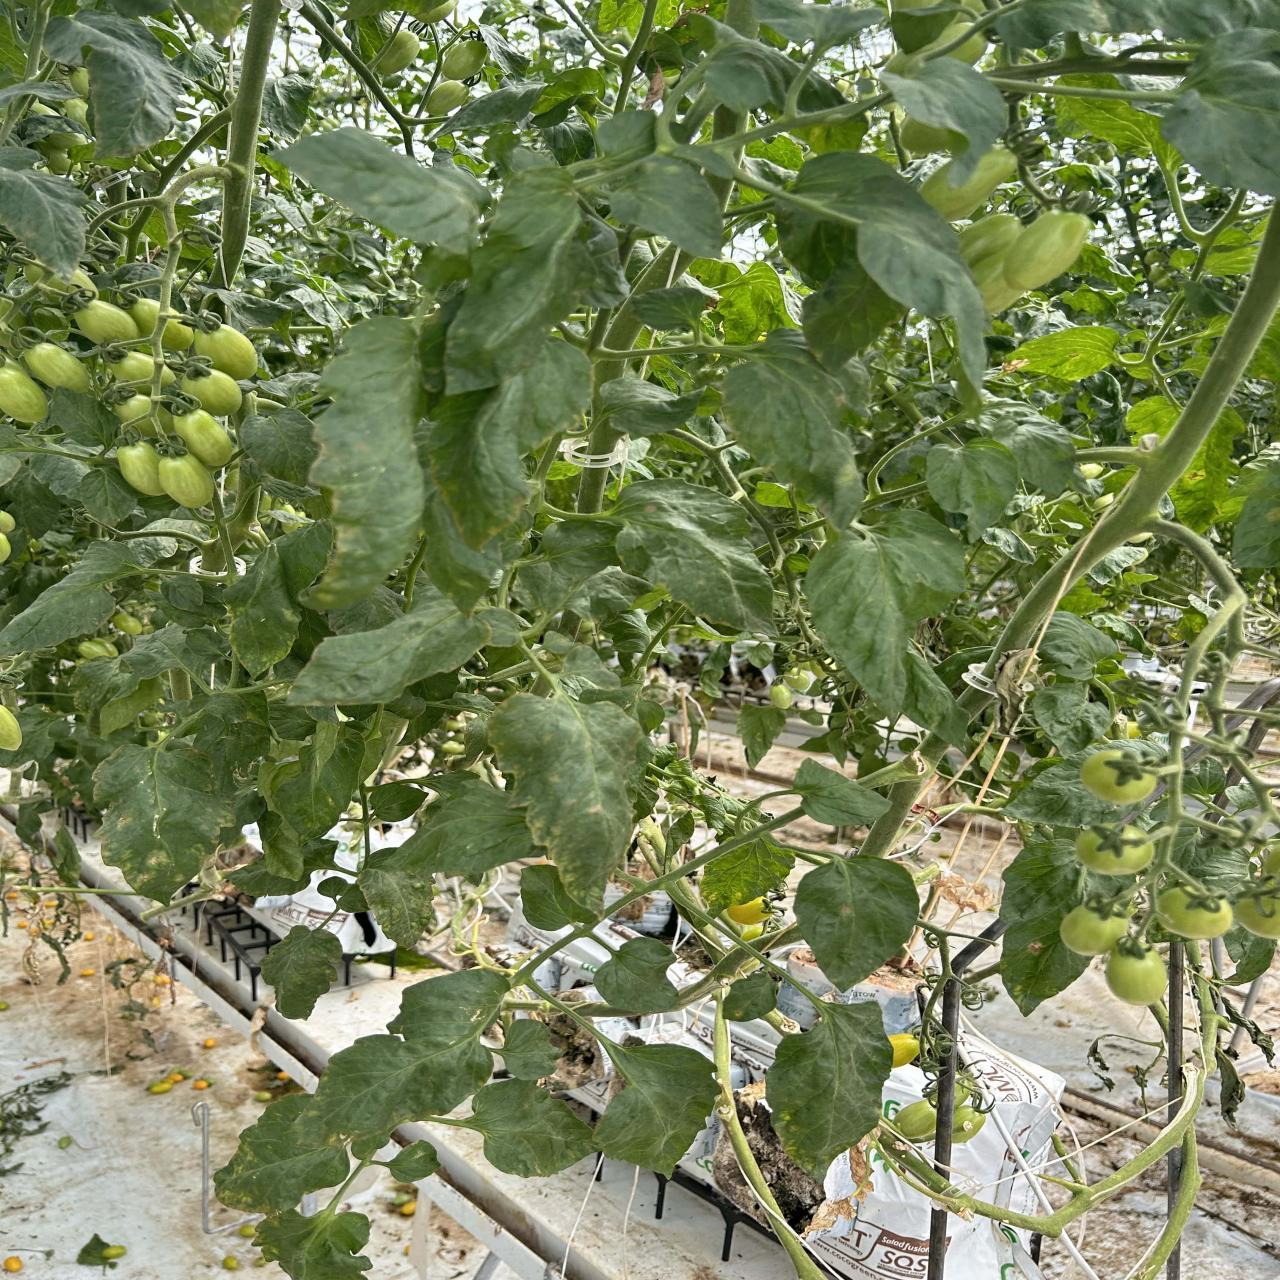Rugose leaf: (295, 971, 509, 1156), (309, 318, 425, 608), (490, 692, 644, 911), (804, 510, 966, 717), (424, 343, 587, 549), (602, 481, 771, 631), (726, 352, 863, 529), (94, 740, 236, 899), (767, 1000, 891, 1178), (792, 857, 919, 990), (215, 1094, 349, 1213), (1003, 756, 1126, 830), (1001, 932, 1090, 1016), (700, 836, 794, 914), (263, 926, 341, 1019), (358, 869, 435, 948), (1030, 683, 1112, 757), (1039, 611, 1118, 680)
Rugose tomato: (888, 1034, 919, 1068)
